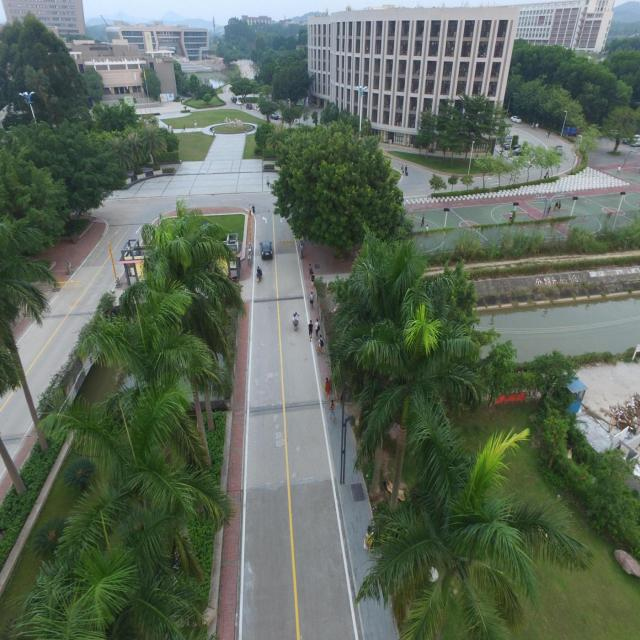car: (222, 233, 239, 253), (260, 240, 272, 259)
person: (329, 400, 335, 422), (256, 265, 262, 282)
tree: (2, 199, 246, 638), (354, 393, 594, 639), (326, 226, 494, 512), (268, 118, 408, 260)
